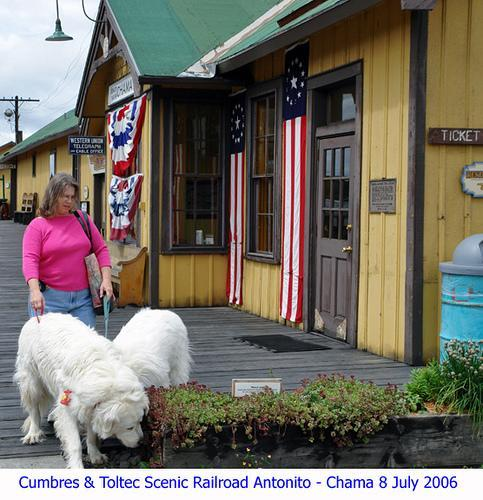Great_Pyrenees: (11, 309, 150, 471), (111, 306, 191, 387)
